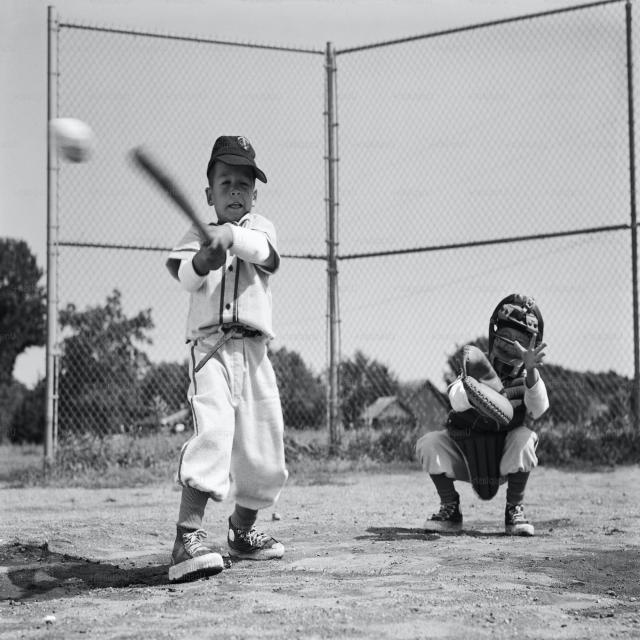child: (164, 135, 286, 578), (418, 297, 550, 536)
